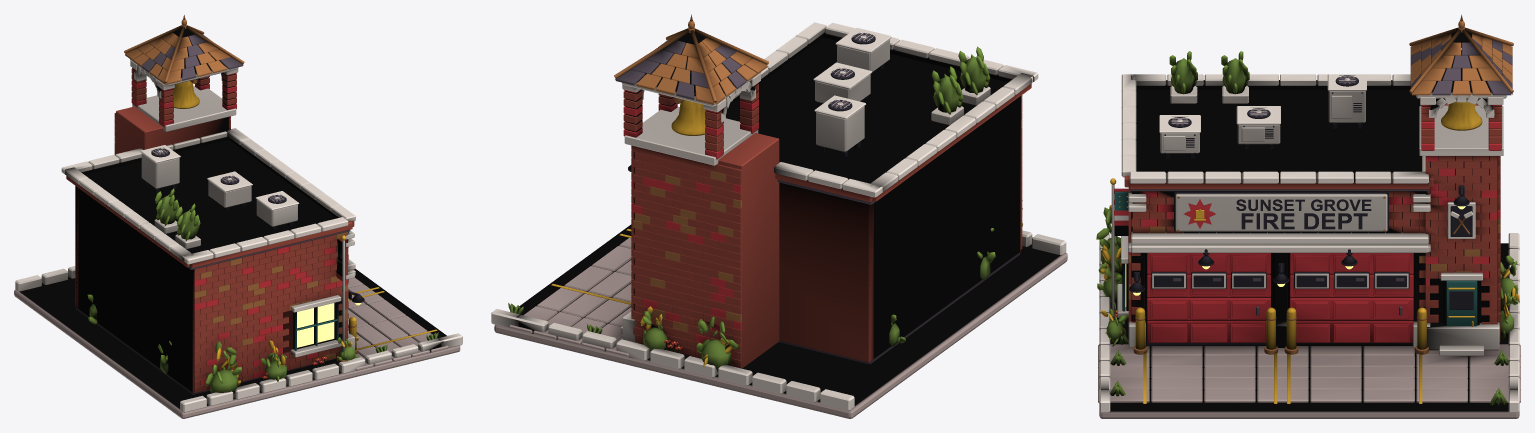
File: bld.fire-station.glb
3 views of the same model, side by side, from view 1: azimuth 30°, elevation 25°; view 2: azimuth 150°, elevation 25°; view 3: azimuth 270°, elevation 25° (orthographic). The views are drawn at different scales.
Parts seen in each view (by area): view 1: object 14, roof, object 19, object 17, object 20, object 22, object 16, object 12, object 15, object 18, bell, object 13 (+1 smaller); view 2: object 14, roof, object 19, object 17, object 20, object 22, object 16, bell, object 15, interior, object 18; view 3: roof, object 19, object 17, object 14, door_bay_L, door_bay_R, object 21, object 18, object 20, object 16, door_service, object 15 (+3 smaller).
Boxes of the visible parts, box(x1,y1,x2,y2) form: object 14: box(66, 68, 354, 393); roof: box(61, 15, 355, 269); object 19: box(14, 268, 460, 418); object 17: box(15, 60, 462, 412); object 20: box(114, 67, 348, 389); object 22: box(114, 79, 358, 362); object 16: box(89, 304, 438, 394); object 12: box(297, 303, 334, 347); object 15: box(87, 294, 357, 386); object 18: box(216, 235, 437, 385); bell: box(173, 81, 199, 108); object 13: box(294, 245, 345, 350); object 14: box(623, 33, 1031, 368); roof: box(614, 14, 1038, 204); object 19: box(494, 224, 1067, 418); object 17: box(491, 73, 1066, 410); object 20: box(623, 82, 1022, 358); object 22: box(633, 98, 1022, 340); object 16: box(508, 256, 990, 371); bell: box(671, 100, 705, 135); object 15: box(642, 200, 1022, 352); interior: box(778, 252, 1020, 364); object 18: box(551, 229, 733, 367); roof: box(1121, 14, 1513, 191); object 19: box(1098, 243, 1520, 418); object 17: box(1099, 95, 1519, 412); object 14: box(1124, 80, 1501, 341); door_bay_L: box(1145, 253, 1272, 345); door_bay_R: box(1288, 253, 1414, 345); object 21: box(1126, 191, 1479, 325); object 18: box(1100, 178, 1519, 403); object 20: box(1114, 105, 1501, 322); object 16: box(1101, 237, 1517, 405); door_service: box(1446, 280, 1477, 326); object 15: box(1096, 207, 1518, 346).
Size of the model in its own units: 11.69 by 10.47 by 12.34.
